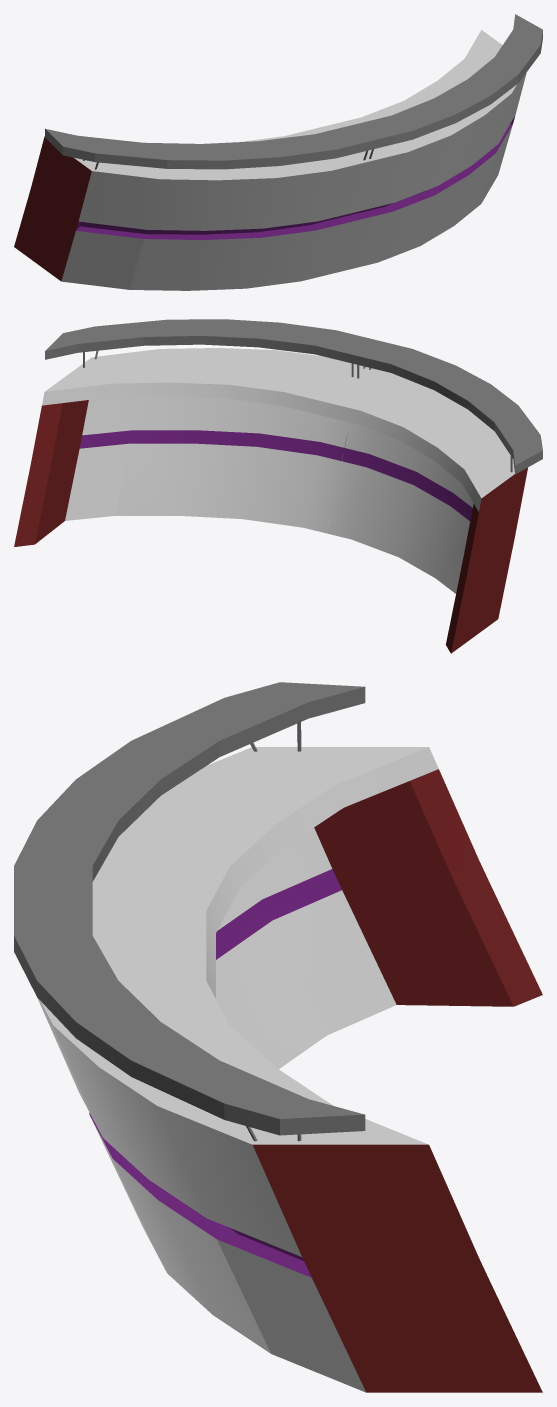
File: ReceptionDesk.fbx
3 views of the same model, one above another, from view 1: azimuth 30°, elevation 25°; view 2: azimuth 150°, elevation 25°; view 3: azimuth 270°, elevation 25° (orthographic). The views are drawn at different scales.
Parts seen in each view (by area): view 1: ReceptionDesk:polySurface5; view 2: ReceptionDesk:polySurface5; view 3: ReceptionDesk:polySurface5.
Boxes of the visible parts, box(x1,y1,x2,y2) form: ReceptionDesk:polySurface5: box(14, 14, 542, 290); ReceptionDesk:polySurface5: box(14, 319, 542, 653); ReceptionDesk:polySurface5: box(14, 682, 542, 1392).
Size of the model in its own units: 3.36 by 1.07 by 1.72.
